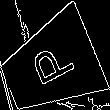P_SW: (23, 39, 77, 94)
